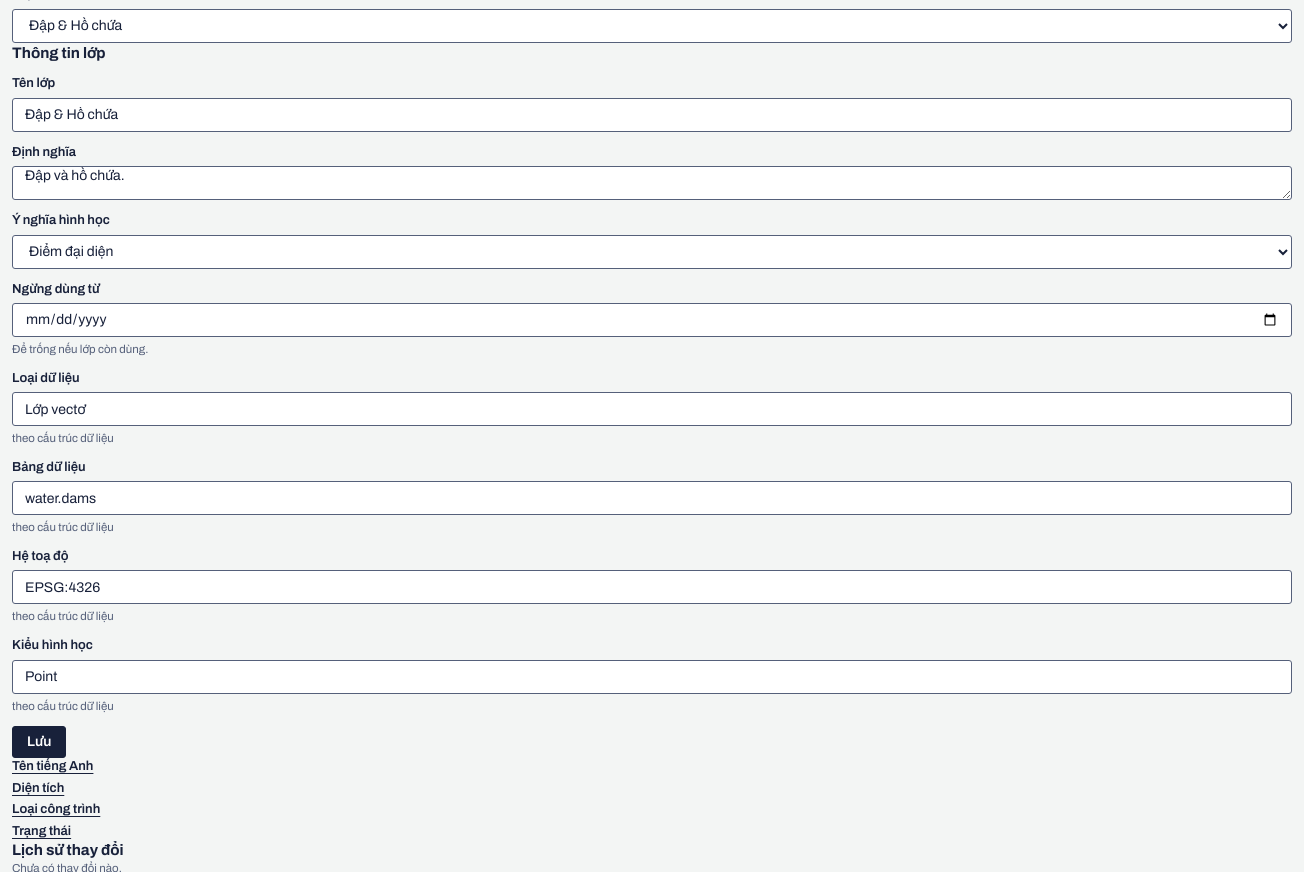
dictionary editor › listed values › a 409 on a value reloads and shows the message
The image size is (1304, 872).
Click the button "Loại công trình" at (56, 809), box [12,802,100,816]
(page scrolled)
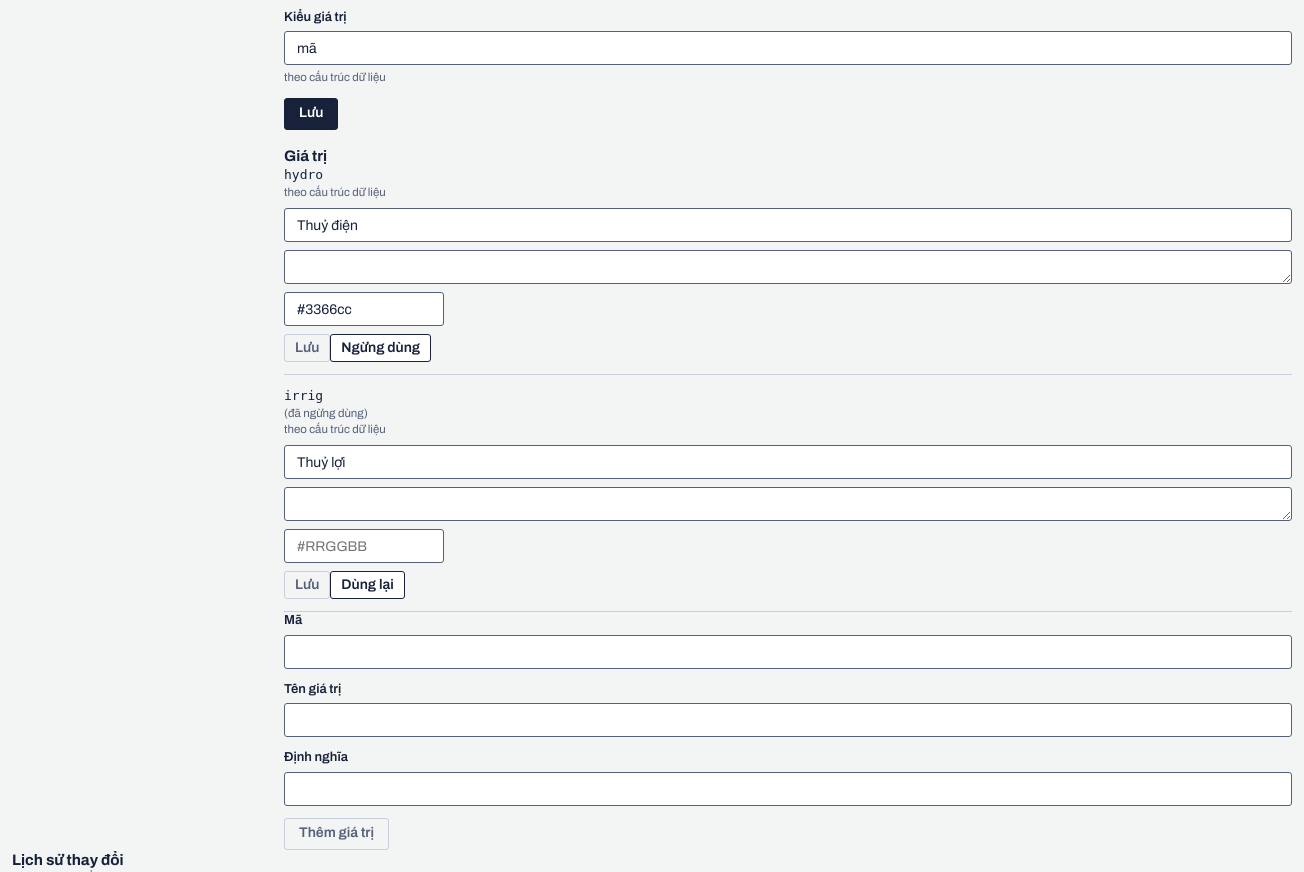
Type "wind" into the field labelled "Mã" at (788, 652), box [284,635,1292,669]
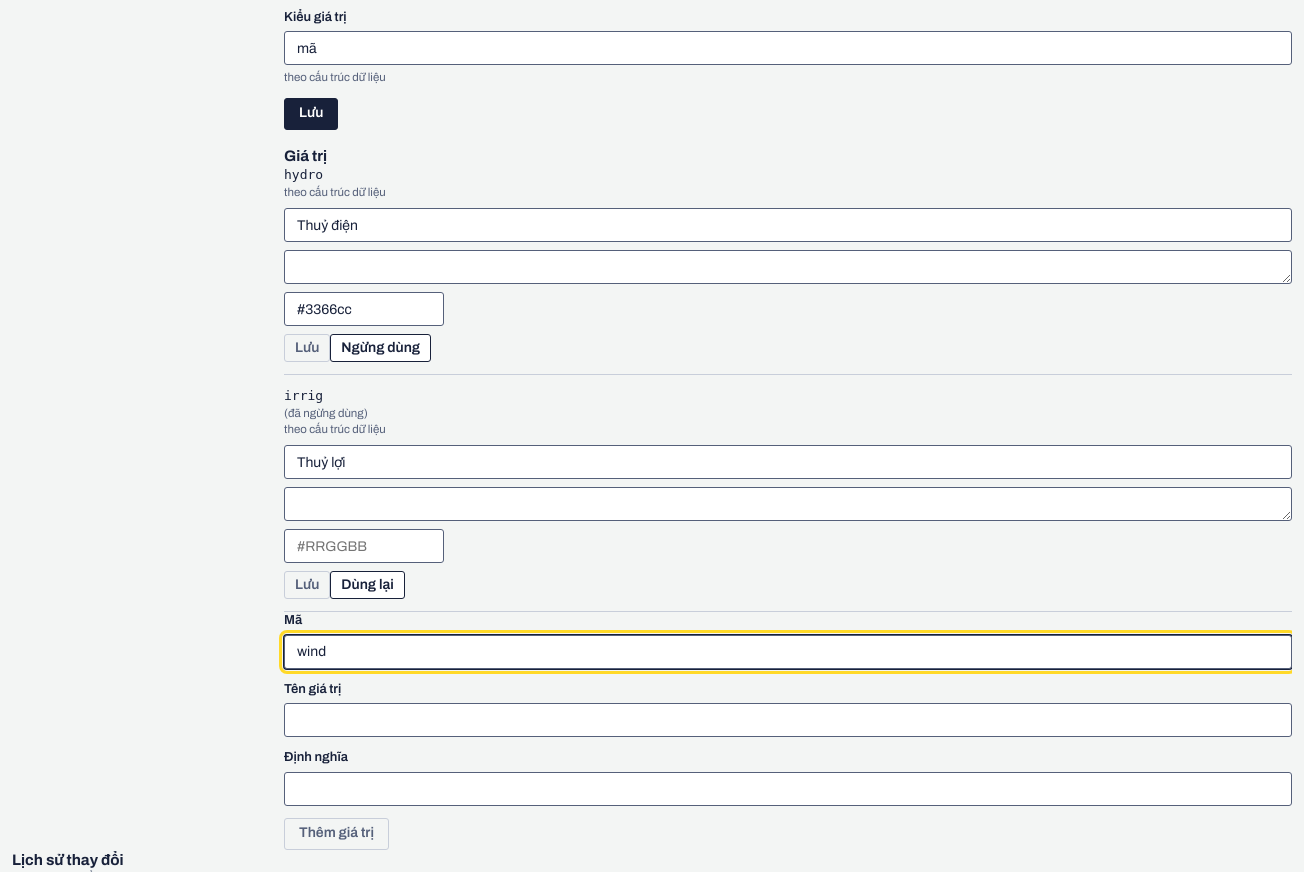
Type "Gió" into the field labelled "Tên giá trị" at (788, 720), box [284,703,1292,737]
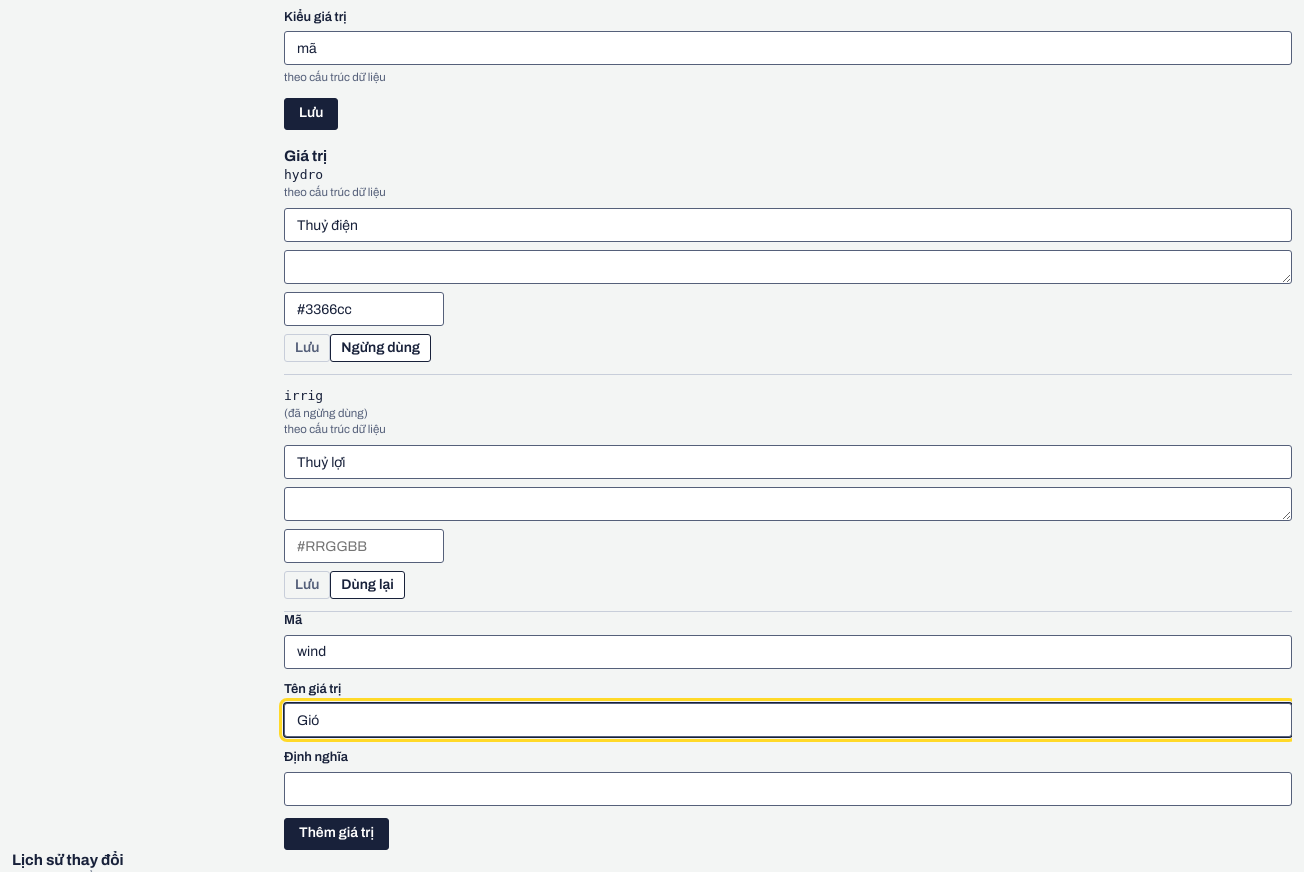
Click the button "Thêm giá trị" at (336, 834), box [284,818,389,850]
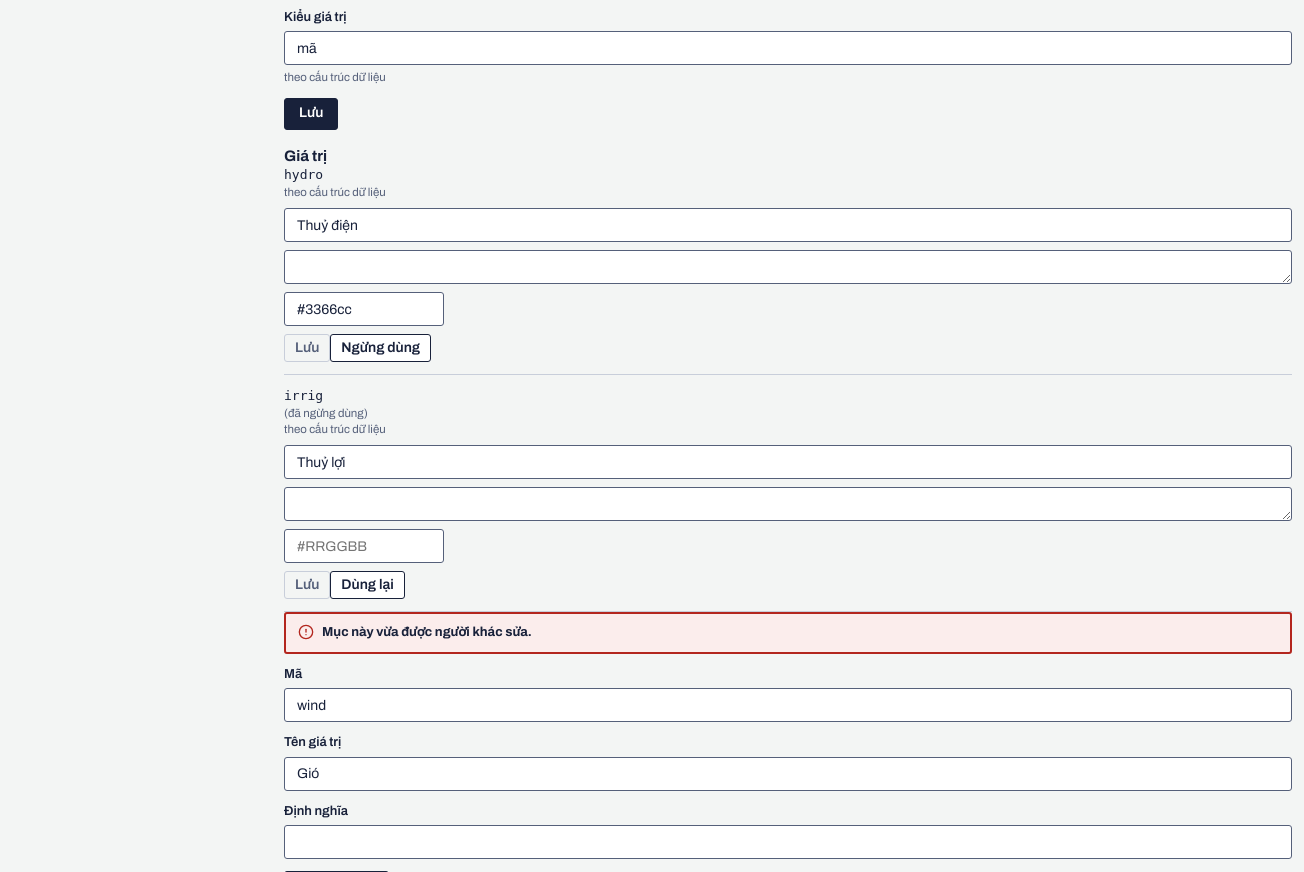
Expected: the text "Mục này vừa được người khác sửa." is shown, [322,625,532,639]
